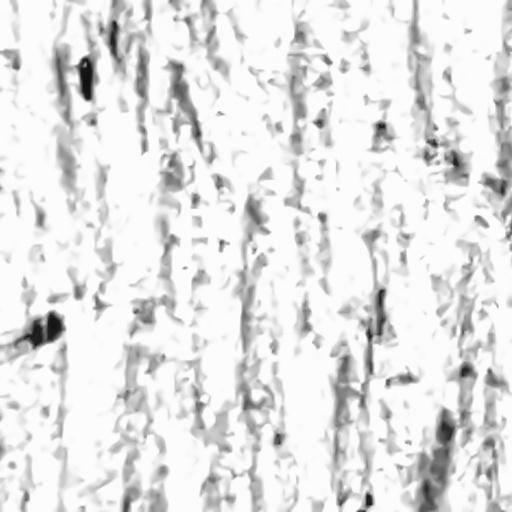egg: (14, 311, 63, 348), (77, 55, 93, 100), (109, 19, 119, 60)
